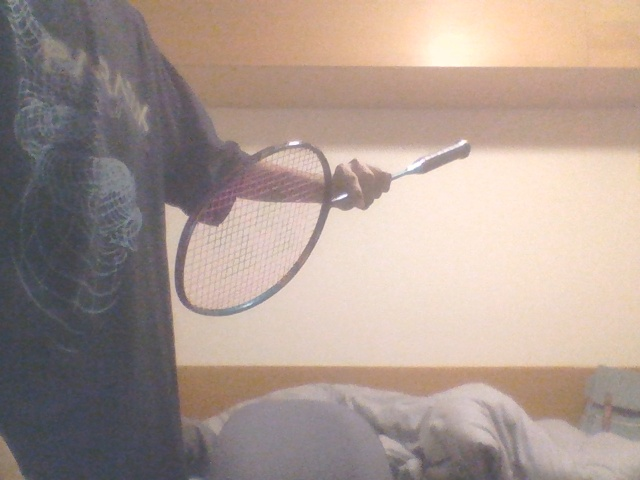human: (1, 1, 393, 480)
racket: (173, 139, 472, 317)
